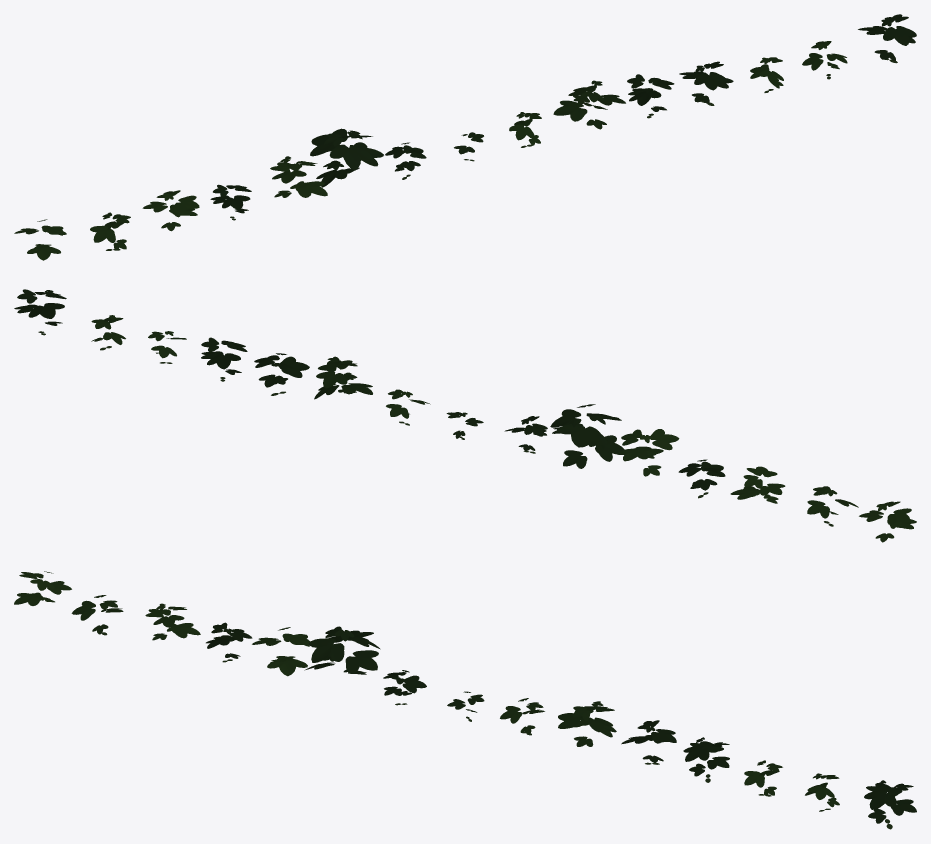
Rendered from ROW_07_SEG0_foliage.dae.
3 renders of one model, top to bottom at view 1: azimuth 30°, elevation 25°; view 2: azimuth 150°, elevation 25°; view 3: azimuth 330°, elevation 25°, orthographic.
Parts seen in each view (by area): view 1: ROW_07_SEG0_foliage; view 2: ROW_07_SEG0_foliage; view 3: ROW_07_SEG0_foliage.
Boxes of the visible parts, box(x1,y1,x2,y2) form: ROW_07_SEG0_foliage: box(14, 14, 916, 260); ROW_07_SEG0_foliage: box(14, 289, 916, 542); ROW_07_SEG0_foliage: box(14, 571, 916, 829).
Size of the model in its own units: 4.54 by 0.3591 by 0.3002.
